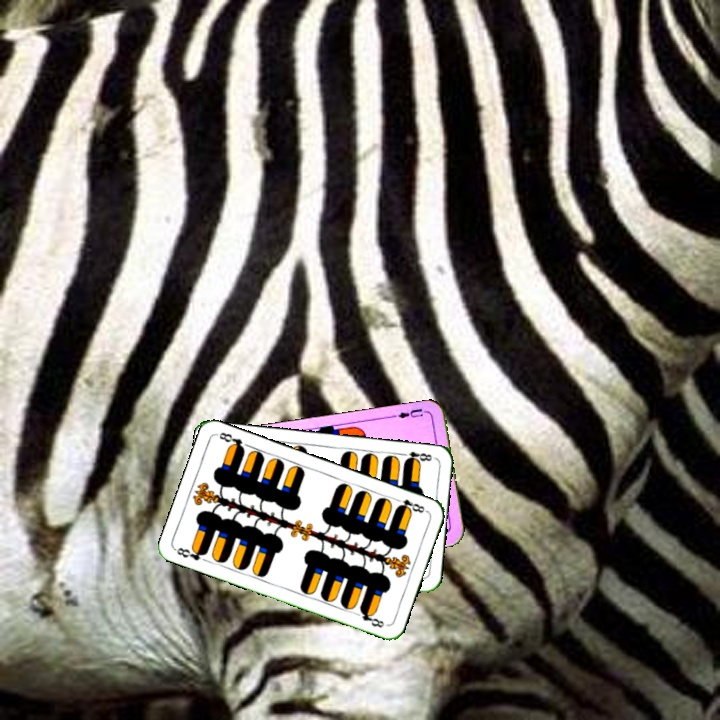E8: (391, 494, 430, 515), (172, 543, 210, 563), (397, 448, 437, 466)
EU: (390, 404, 430, 421)
